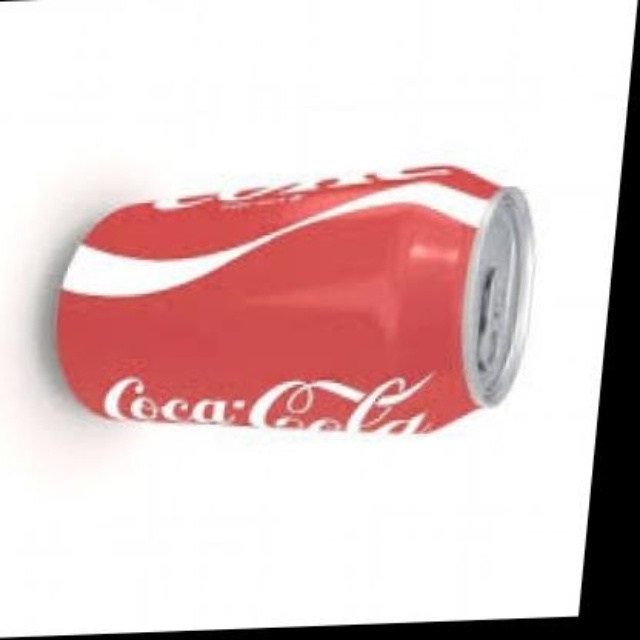trash: (57, 166, 532, 432)
